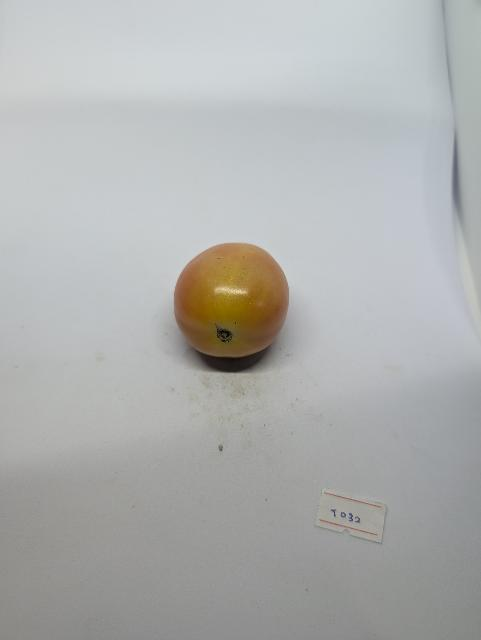turning: (167, 234, 300, 364)
